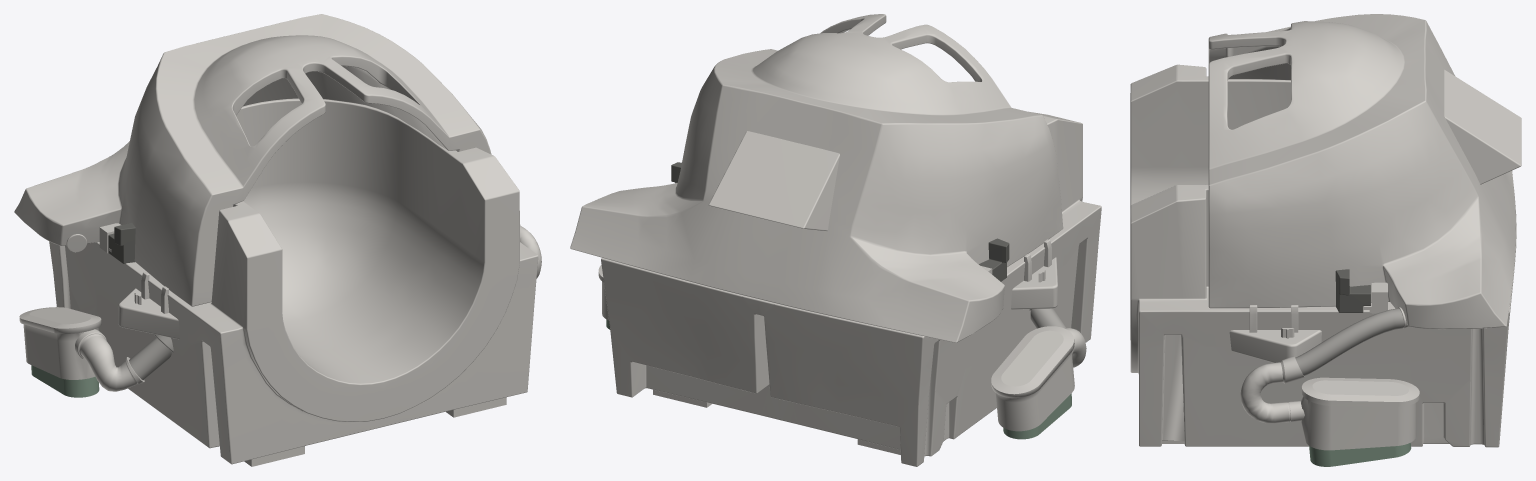
The model's file is HeadCoil2.fbx.
3 views of the same model, side by side, from view 1: azimuth 30°, elevation 25°; view 2: azimuth 150°, elevation 25°; view 3: azimuth 270°, elevation 25° (orthographic). The views are drawn at different scales.
Parts seen in each view (by area): view 1: HeadCoil_bot, HeadCoil_top; view 2: HeadCoil_top, HeadCoil_bot; view 3: HeadCoil_top, HeadCoil_bot.
Part boxes in pixels (<box>): HeadCoil_bot: <box>19,98,538,466</box>; HeadCoil_top: <box>14,14,541,306</box>; HeadCoil_top: <box>570,14,1063,342</box>; HeadCoil_bot: <box>601,111,1101,466</box>; HeadCoil_top: <box>1208,14,1521,466</box>; HeadCoil_bot: <box>1130,64,1516,447</box>.
Size of the model in its own units: 44.24 by 30.47 by 31.78.
